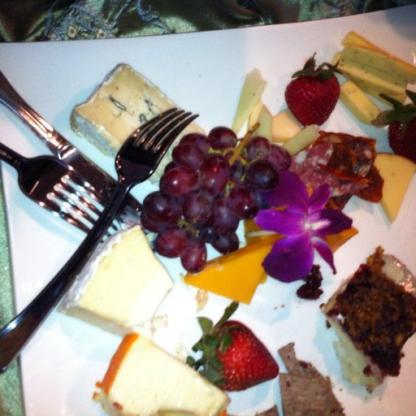strawberry: (197, 318, 280, 395), (283, 58, 338, 125)
